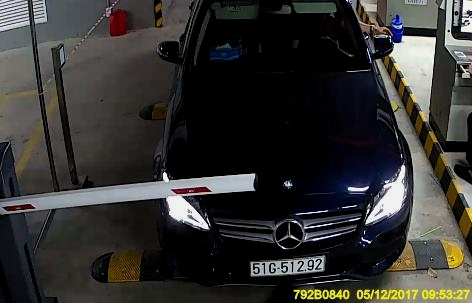plate: (246, 253, 327, 274)
